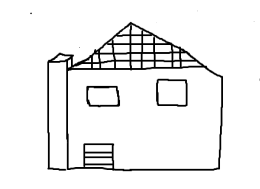chimney: (48, 53, 73, 84)
door: (79, 136, 120, 175)
open_window: (156, 79, 187, 107), (86, 86, 120, 107)
roof: (66, 21, 209, 75)
wall: (64, 63, 222, 175)
